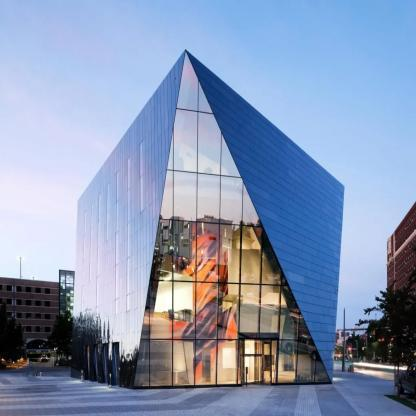Building Outline: (70, 49, 345, 389)
Door: (243, 338, 272, 386)
Facade: (172, 129, 334, 388)
Floor: (150, 220, 342, 285), (141, 282, 338, 335)
Floor Slab: (159, 217, 342, 235), (150, 278, 339, 289), (141, 334, 336, 338)
Glass Wall: (133, 50, 331, 386)
Ground Floor: (133, 338, 335, 389)
Top Floor: (160, 50, 345, 231)
